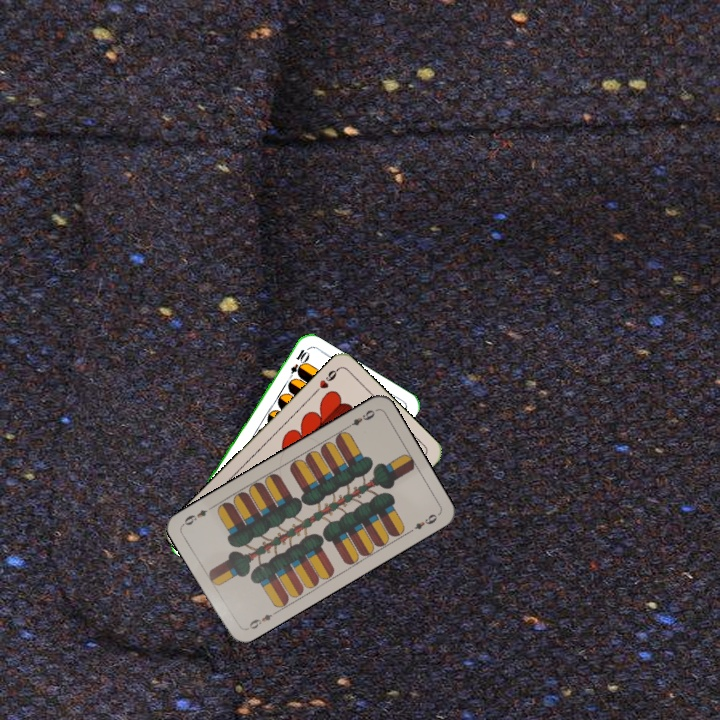E10: (284, 345, 310, 383)
E9: (242, 607, 279, 633), (342, 406, 378, 431)
H9: (309, 365, 341, 397)
